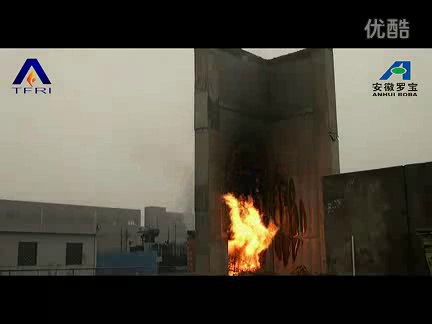fire: (216, 191, 276, 277)
